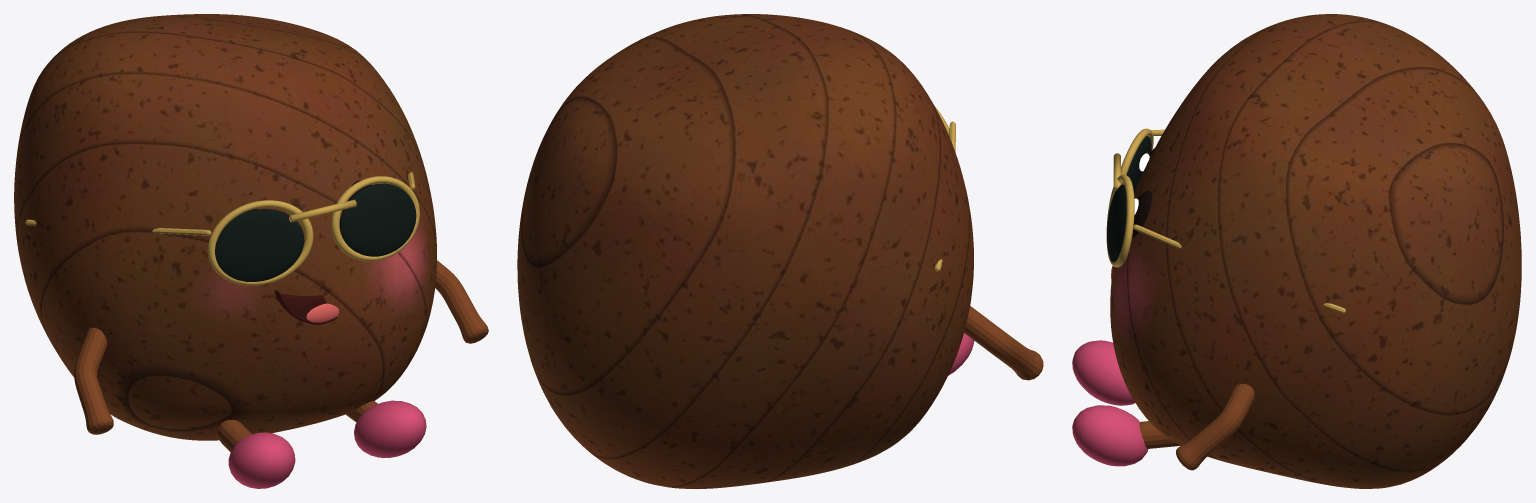
Rendered from potato-grilled.glb.
3 renders of one model, left to right at view 1: azimuth 30°, elevation 25°; view 2: azimuth 150°, elevation 25°; view 3: azimuth 270°, elevation 25°, orthographic. The views are drawn at different scales.
Parts seen in each view (by area): view 1: Body, Glass_R, Glass_L, Foot_L, Foot_R, Arm_R, Frame_R, Arm_L, Frame_L, Mouth, Leg_R, Bridge; view 2: Body, Arm_R; view 3: Body, Foot_L, Foot_R, Arm_L, Glass_L, Frame_L, Leg_L, Glass_R, Frame_R, Pupil_L.
Part boxes in pixels (left/top/right/bottom): Body: left=14, top=14, right=436, bottom=440; Glass_R: left=215, top=209, right=304, bottom=281; Glass_L: left=339, top=183, right=416, bottom=256; Foot_L: left=354, top=400, right=426, bottom=457; Foot_R: left=228, top=432, right=295, bottom=488; Arm_R: left=74, top=327, right=113, bottom=434; Frame_R: left=207, top=200, right=313, bottom=285; Arm_L: left=435, top=260, right=488, bottom=343; Frame_L: left=331, top=176, right=419, bottom=261; Mouth: left=274, top=290, right=337, bottom=324; Leg_R: left=217, top=420, right=251, bottom=451; Bridge: left=289, top=199, right=356, bottom=222; Body: left=517, top=14, right=973, bottom=488; Arm_R: left=964, top=306, right=1043, bottom=380; Body: left=1110, top=14, right=1521, bottom=488; Foot_L: left=1072, top=405, right=1148, bottom=466; Foot_R: left=1072, top=340, right=1135, bottom=405; Arm_L: left=1176, top=384, right=1254, bottom=470; Glass_L: left=1107, top=184, right=1126, bottom=262; Frame_L: left=1106, top=174, right=1134, bottom=267; Leg_L: left=1139, top=421, right=1180, bottom=448; Glass_R: left=1124, top=136, right=1151, bottom=193; Frame_R: left=1121, top=128, right=1153, bottom=184; Pupil_L: left=1132, top=190, right=1152, bottom=237.
Bounding box in the file's own units: 1.39 × 1.32 × 1.35.
9 materials, 1 textured.
